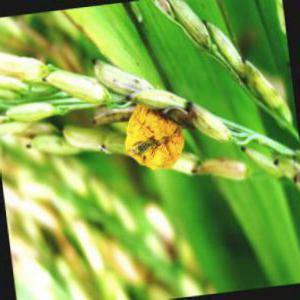Leaf_Scald: (136, 106, 174, 173)
